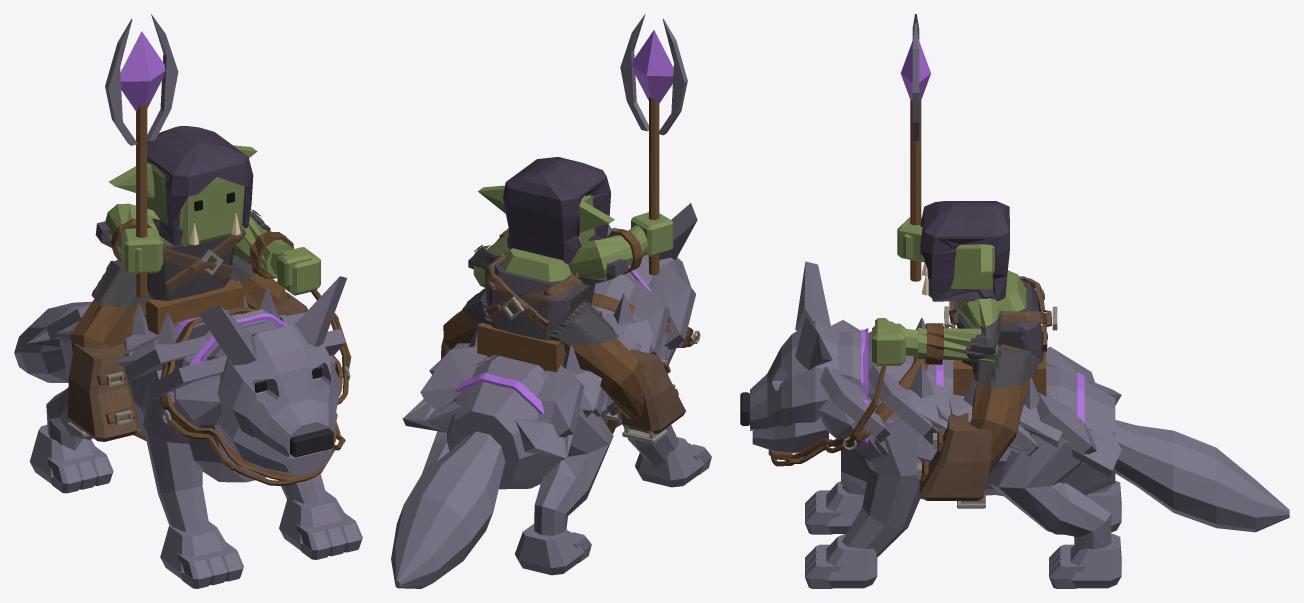
The model's file is host_37.glb.
The picture shows the model from 3 angles, left to right: view 1: azimuth 30°, elevation 25°; view 2: azimuth 150°, elevation 25°; view 3: azimuth 270°, elevation 25°; orthographic projection. The views are drawn at different scales.
Visible parts, largest first — view 1: Wolf — continuous source anatomy and real tail root, Rider hood — source real fitted roof, back and side curtains, Rider — continuous source torso, arms and seated hip transit, Rider — RIGHT source boot, Head — continuous source square skull under helmet, Rider — real hollow fitted leather vest, Source wolf mane — joined broad pointed neck and dorsal laye, Tack — thick native saddle, Rider weapon — purple fork crystal, Wolf tack — actual closed under-neck source collar, Rider hand — LEFT connected source fist and wrist, Rider weapon — actual wooden handle (+10 smaller); view 2: Wolf — continuous source anatomy and real tail root, Source wolf mane — joined broad pointed neck and dorsal laye, Rider hood — source real fitted roof, back and side curtains, Rider — continuous source torso, arms and seated hip transit, Rider — real hollow fitted leather vest, Rider — RIGHT source boot, Tack — thick native saddle, Rider weapon — purple fork crystal, Wolf armor — source flanking plate 1 3, Rider weapon — actual wooden handle, Rider hand — RIGHT source compact planar grasp, Head — continuous source square skull under helmet (+11 smaller); view 3: Wolf — continuous source anatomy and real tail root, Source wolf mane — joined broad pointed neck and dorsal laye, Rider hood — source real fitted roof, back and side curtains, Rider — continuous source torso, arms and seated hip transit, Rider — LEFT source boot, Rider — real hollow fitted leather vest, Head — continuous source square skull under helmet, Rider hand — LEFT connected source fist and wrist, Rider weapon — actual wooden handle, Wolf armor — source flanking plate -1 3, Wolf tack — actual closed under-neck source collar, Wolf armor — source flanking plate -1 0 (+7 smaller).
Part boxes in pixels (x1,y1,x2,y2): Wolf — continuous source anatomy and real tail root: (14,276,362,588); Rider hood — source real fitted roof, back and side curtains: (147,126,253,245); Rider — continuous source torso, arms and seated hip transit: (71,203,293,352); Rider — RIGHT source boot: (67,343,139,441); Head — continuous source square skull under helmet: (109,145,257,246); Rider — real hollow fitted leather vest: (91,211,270,307); Source wolf mane — joined broad pointed neck and dorsal laye: (46,306,345,406); Tack — thick native saddle: (145,279,243,334); Rider weapon — purple fork crystal: (120,31,165,111); Wolf tack — actual closed under-neck source collar: (160,307,342,480); Rider hand — LEFT connected source fist and wrist: (270,246,320,295); Rider weapon — actual wooden handle: (136,103,147,297); Wolf — continuous source anatomy and real tail root: (391,203,711,588); Source wolf mane — joined broad pointed neck and dorsal laye: (420,263,695,437); Rider hood — source real fitted roof, back and side curtains: (503,157,610,263); Rider — continuous source torso, arms and seated hip transit: (443,232,644,419); Rider — real hollow fitted leather vest: (462,245,618,344); Rider — RIGHT source boot: (620,349,686,433); Tack — thick native saddle: (477,310,602,372); Rider weapon — purple fork crystal: (632,30,673,104); Wolf armor — source flanking plate 1 3: (514,416,573,458); Rider weapon — actual wooden handle: (649,96,659,275); Rider hand — RIGHT source compact planar grasp: (628,212,673,256); Head — continuous source square skull under helmet: (478,185,614,242); Wolf — continuous source anatomy and real tail root: (750,261,1289,588); Source wolf mane — joined broad pointed neck and dorsal laye: (820,320,1096,456); Rider hood — source real fitted roof, back and side curtains: (920,201,1009,301); Rider — continuous source torso, arms and seated hip transit: (916,270,1028,473); Rider — LEFT source boot: (919,413,992,500); Rider — real hollow fitted leather vest: (953,280,1043,388); Head — continuous source square skull under helmet: (928,244,994,301); Rider hand — LEFT connected source fist and wrist: (872,318,918,365); Rider weapon — actual wooden handle: (910,100,921,281); Wolf armor — source flanking plate -1 3: (1072,418,1121,476); Wolf tack — actual closed under-neck source collar: (768,356,928,460); Wolf armor — source flanking plate -1 0: (907,379,950,430).
Bounding box in the file's own units: 1.93 × 4.08 × 4.09.
18 materials, 12 textured.
